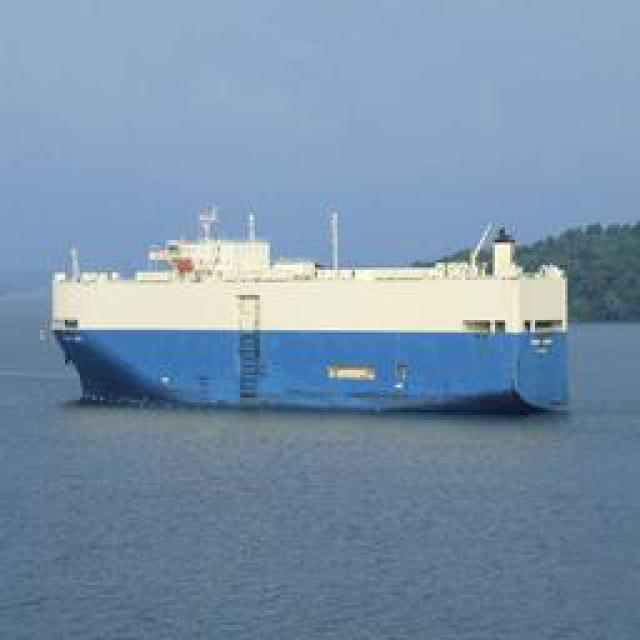Ship: (51, 219, 566, 419)
